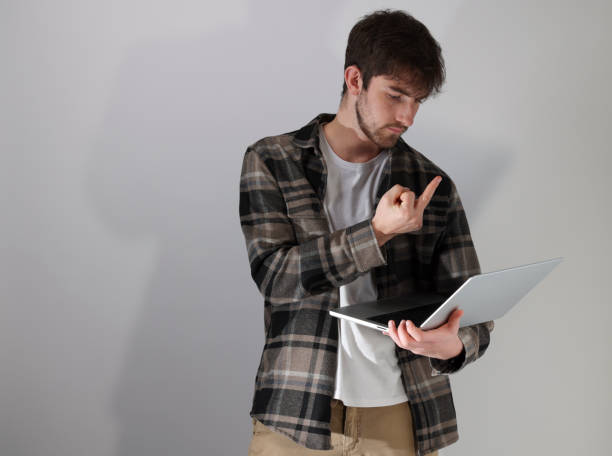insulting_gesture: (373, 168, 440, 240)
